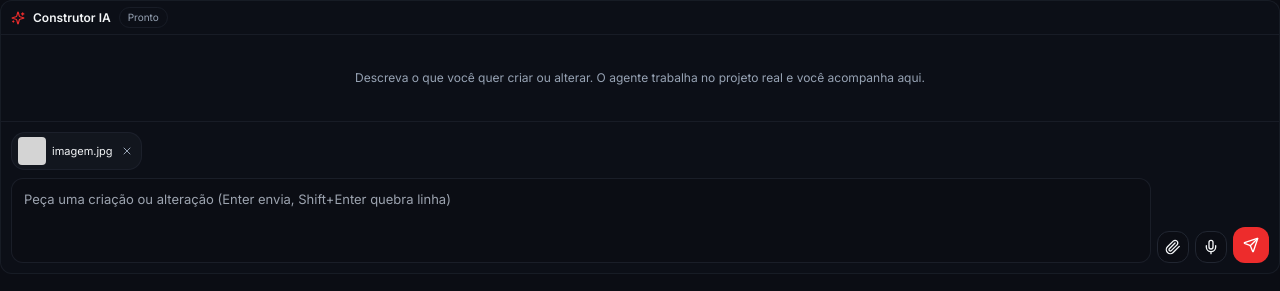
Test: Chat do Studio · anexo de imagem NÃO envia mensagem (só no Enviar) › 4) remover anexo antes de enviar: NÃO envia nada e não sobra pendente
Earlier steps of the test are not shown.
Expected: the text "imagem.jpg" is shown, [52,143,113,159]
Click the button titled "Remover imagem.jpg" at {"x": 127, "y": 151}, box [119,143,135,159]
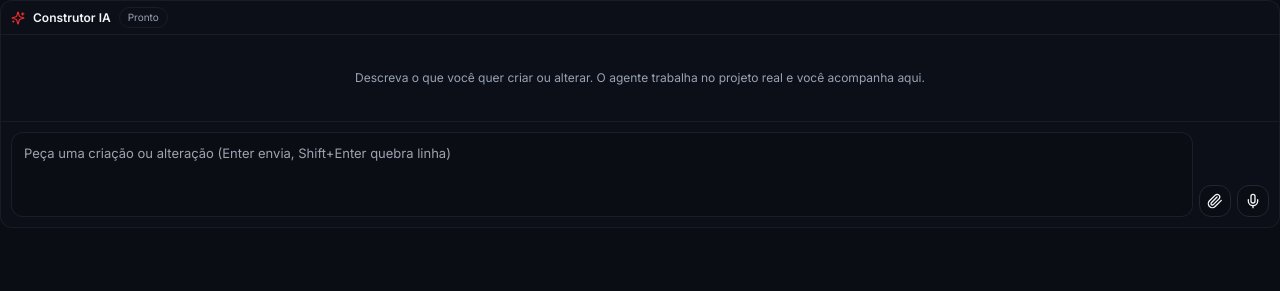
Expected: the text "imagem.jpg" is gone
